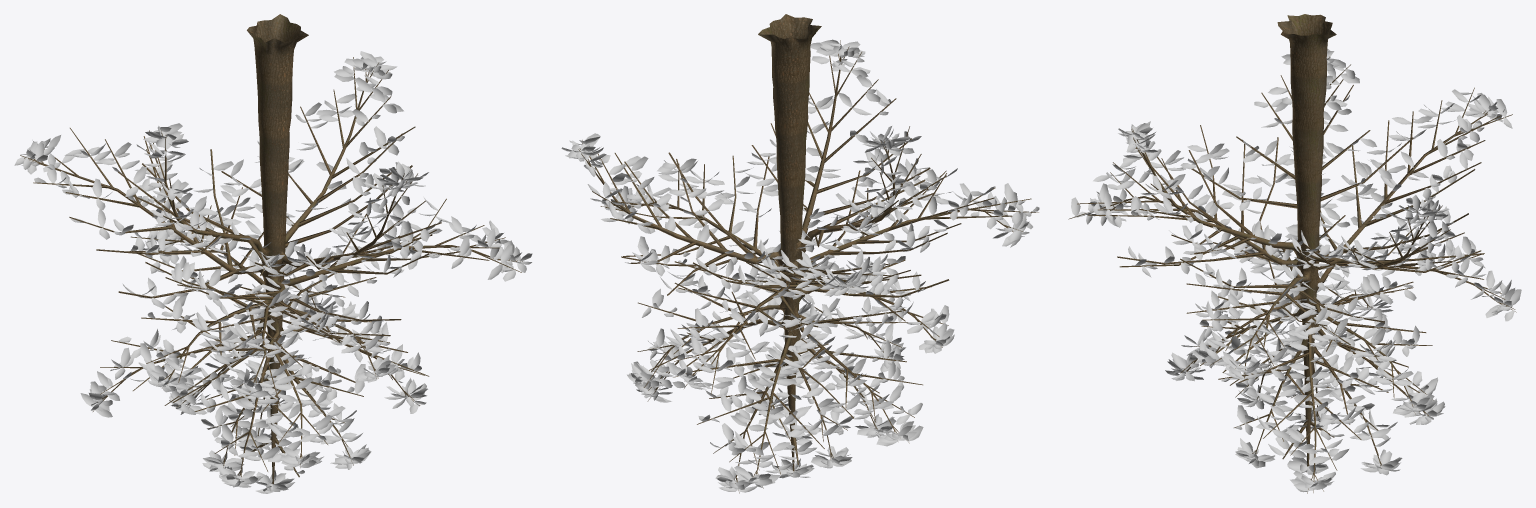
Rendered from BIO_VEG_Infected_Tree_01A.fbx.
3 views of the same model, side by side, from view 1: azimuth 30°, elevation 25°; view 2: azimuth 150°, elevation 25°; view 3: azimuth 270°, elevation 25° (orthographic). The views are drawn at different scales.
Parts seen in each view (by area): view 1: BIO_VEG_Infected_Tree_01A; view 2: BIO_VEG_Infected_Tree_01A; view 3: BIO_VEG_Infected_Tree_01A.
Part boxes in pixels (x1,y1,x2,y2): BIO_VEG_Infected_Tree_01A: (14,14,532,493); BIO_VEG_Infected_Tree_01A: (561,14,1039,493); BIO_VEG_Infected_Tree_01A: (1068,14,1521,493).
Size of the model in its own units: 868 by 972 by 892.
